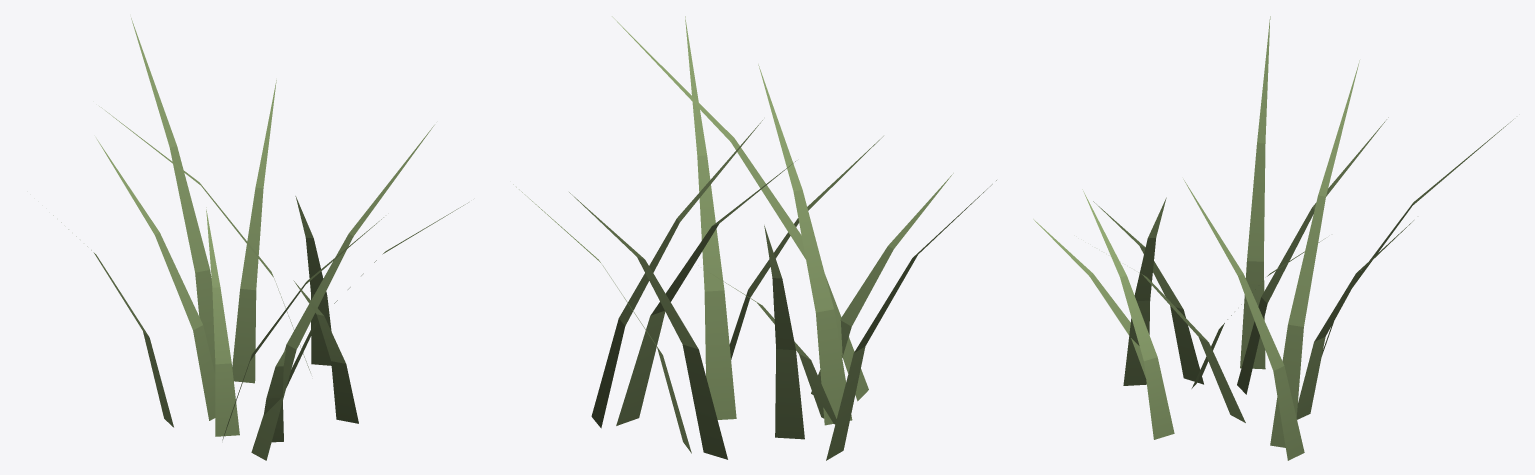
File: grass_8.glb
The picture shows the model from 3 angles, left to right: view 1: azimuth 30°, elevation 25°; view 2: azimuth 150°, elevation 25°; view 3: azimuth 270°, elevation 25°; orthographic projection. The views are drawn at different scales.
Parts seen in each view (by area): view 1: grass_8.001; view 2: grass_8.001; view 3: grass_8.001.
Part boxes in pixels (x1=…): grass_8.001: x1=53, y1=18, x2=468, y2=460; grass_8.001: x1=513, y1=16, x2=996, y2=460; grass_8.001: x1=1033, y1=16, x2=1513, y2=460.
Size of the model in its own units: 0.8663 by 0.6485 by 0.9582.
